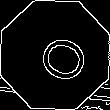O_NW: (23, 25, 87, 85)
